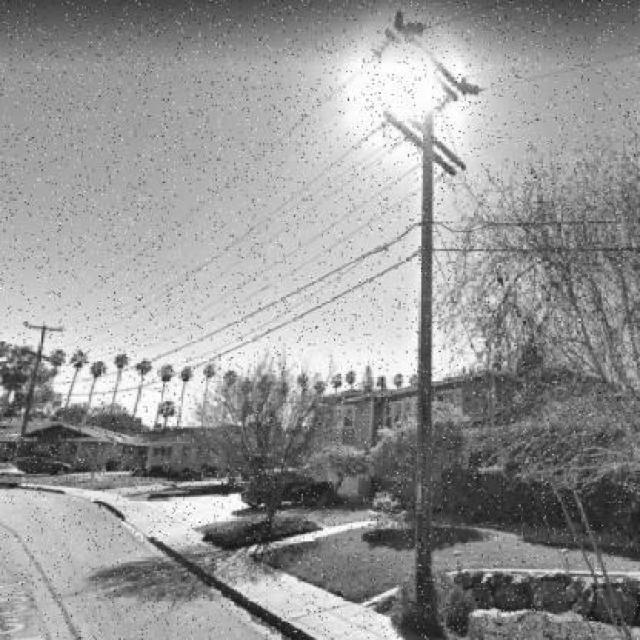pole: (352, 22, 488, 626), (14, 307, 72, 473)
